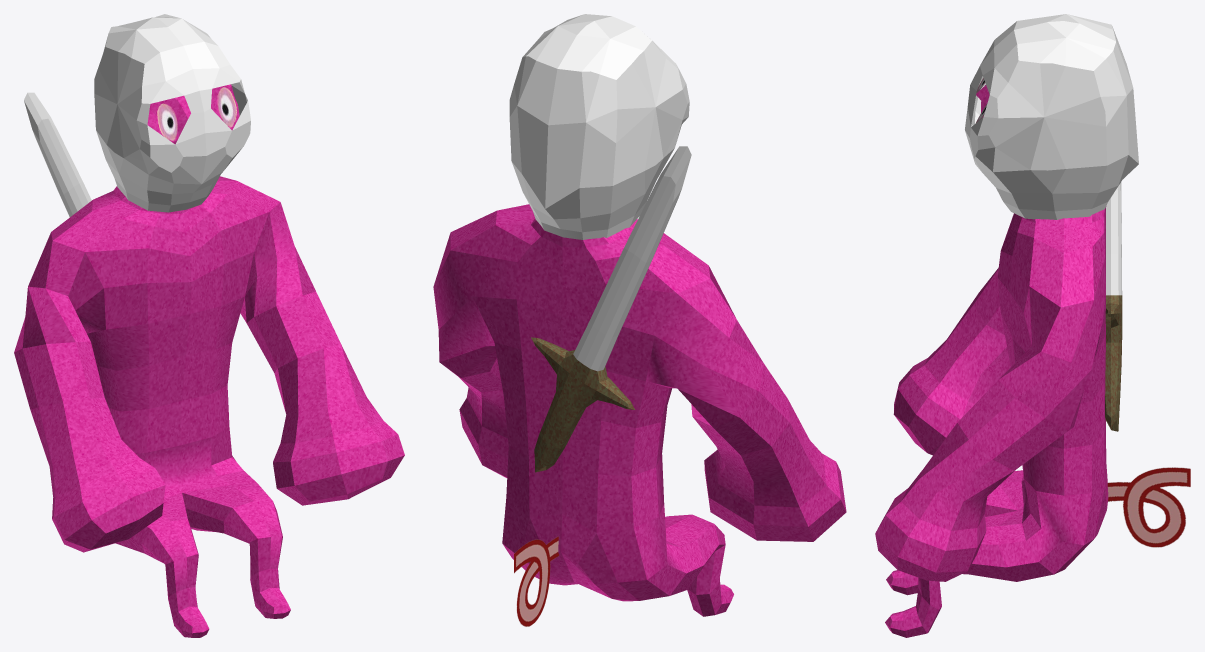
File: Cerdo.glb
3 views of the same model, side by side, from view 1: azimuth 30°, elevation 25°; view 2: azimuth 150°, elevation 25°; view 3: azimuth 270°, elevation 25° (orthographic). The views are drawn at different scales.
Visible parts, largest first — view 1: Cube.001; view 2: Cube.001; view 3: Cube.001.
Part boxes in pixels (x1,y1,x2,y2): Cube.001: (14, 14, 404, 637); Cube.001: (433, 14, 846, 626); Cube.001: (875, 14, 1190, 637).
Size of the model in its own units: 1.78 by 2.84 by 1.37.
Materials: 5 (4 with a texture image).
